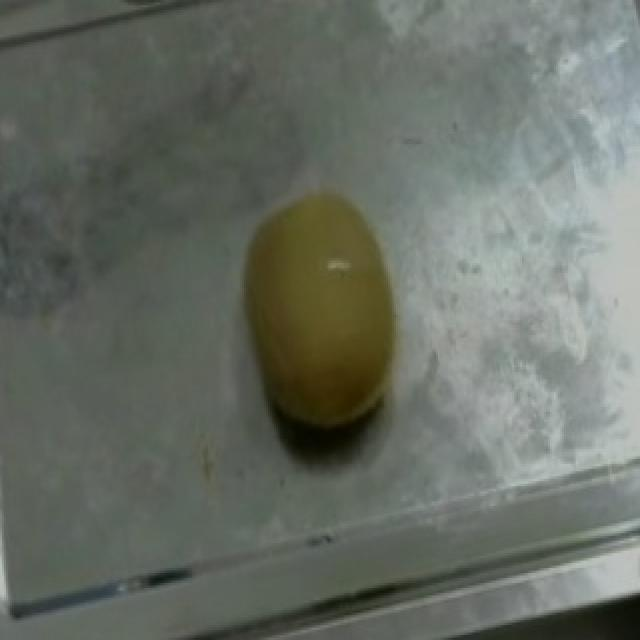Fruit: (202, 166, 436, 472)
